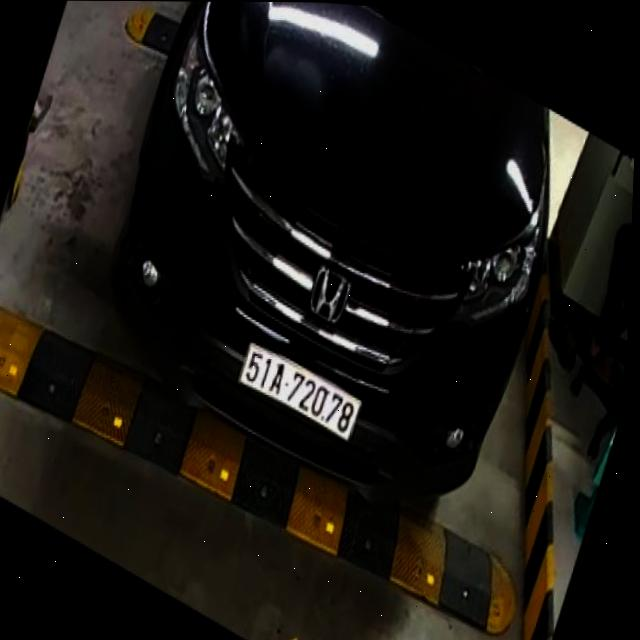car: (86, 1, 575, 508)
plate: (228, 335, 369, 446)
